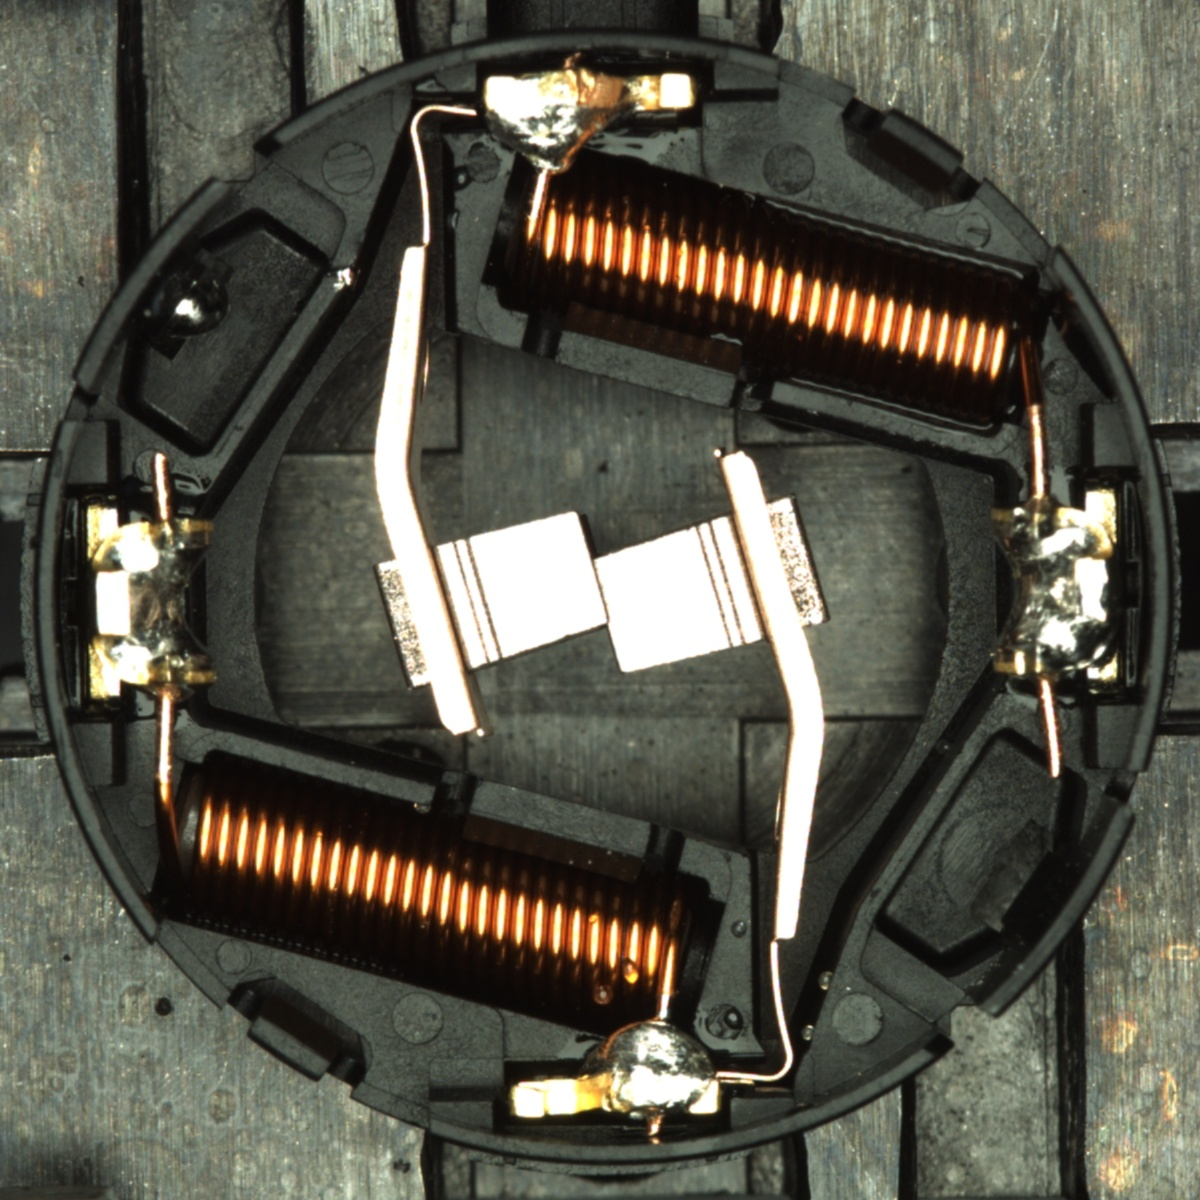1: (713, 929, 943, 1153), (255, 31, 484, 255)
2: (713, 31, 943, 255), (255, 929, 484, 1153)
3: (943, 704, 1171, 929)
4: (255, 255, 484, 480), (713, 704, 943, 929)
5: (484, 143, 713, 368), (484, 816, 713, 1041)
6: (713, 255, 943, 480), (255, 704, 484, 929)
7: (943, 255, 1171, 480), (25, 704, 255, 929)
cacbon: (396, 499, 801, 685)
chau_dien: (79, 501, 221, 702), (982, 488, 1124, 686)
hat_chi: (167, 275, 230, 336)
tay_choi: (482, 68, 700, 176), (507, 1016, 722, 1119)
thanh_de: (954, 785, 1142, 1034)
vun_chi: (164, 271, 230, 337), (330, 263, 363, 295)
